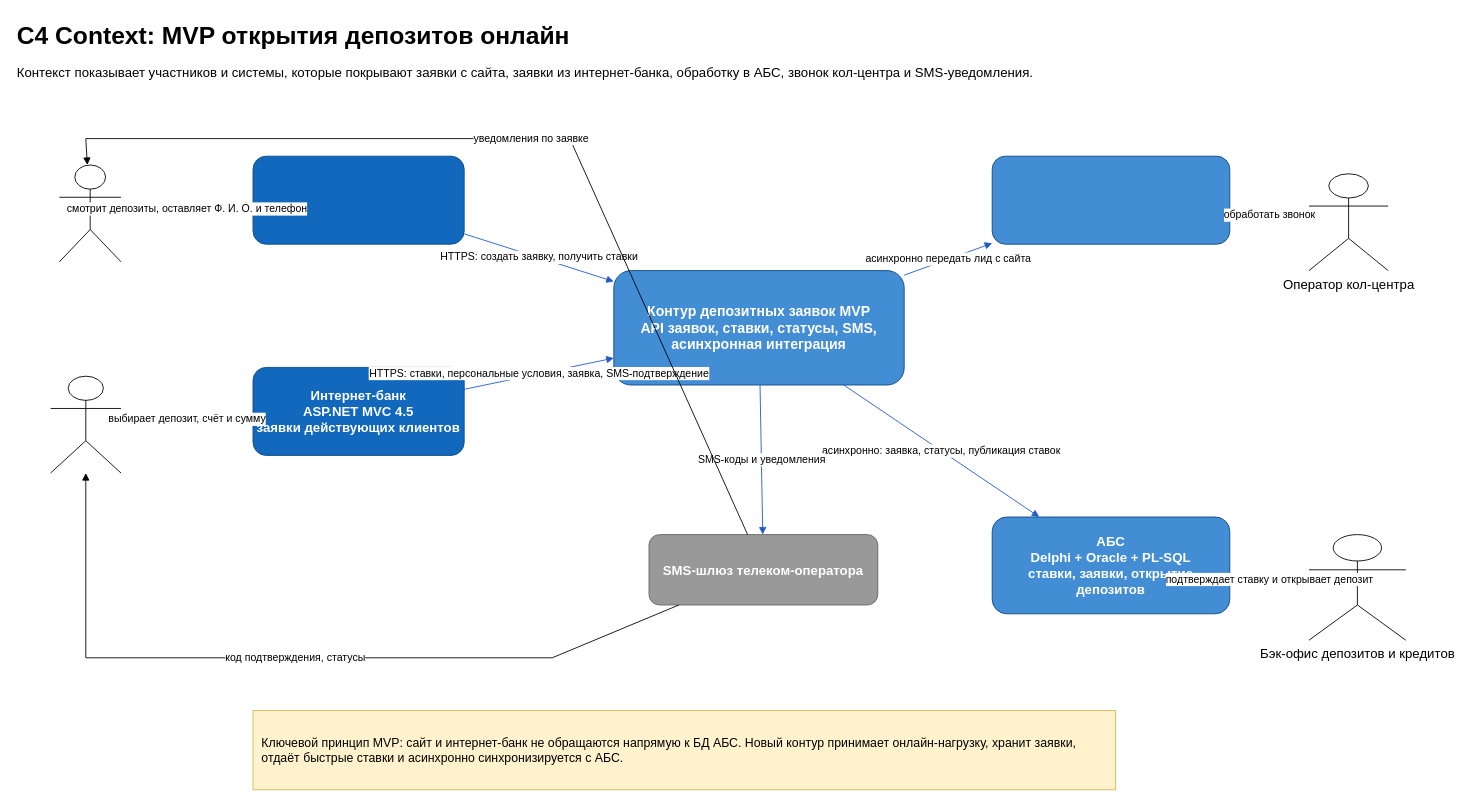
Some shapes in this 1470 by 805 pixel diagram are drawn without their labels. Here are the shapes that lost their labels. From the top down, the centre of each, then its label:
At (x=90, y=213): "Новый клиент".
At (x=358, y=199): "Сайт банка PHP + React.js заявки новых клиентов".
At (x=1110, y=199): "Система кол-центра React + Java Spring Boot + PostgreSQL".
At (x=85, y=424): "Действующий клиент".
